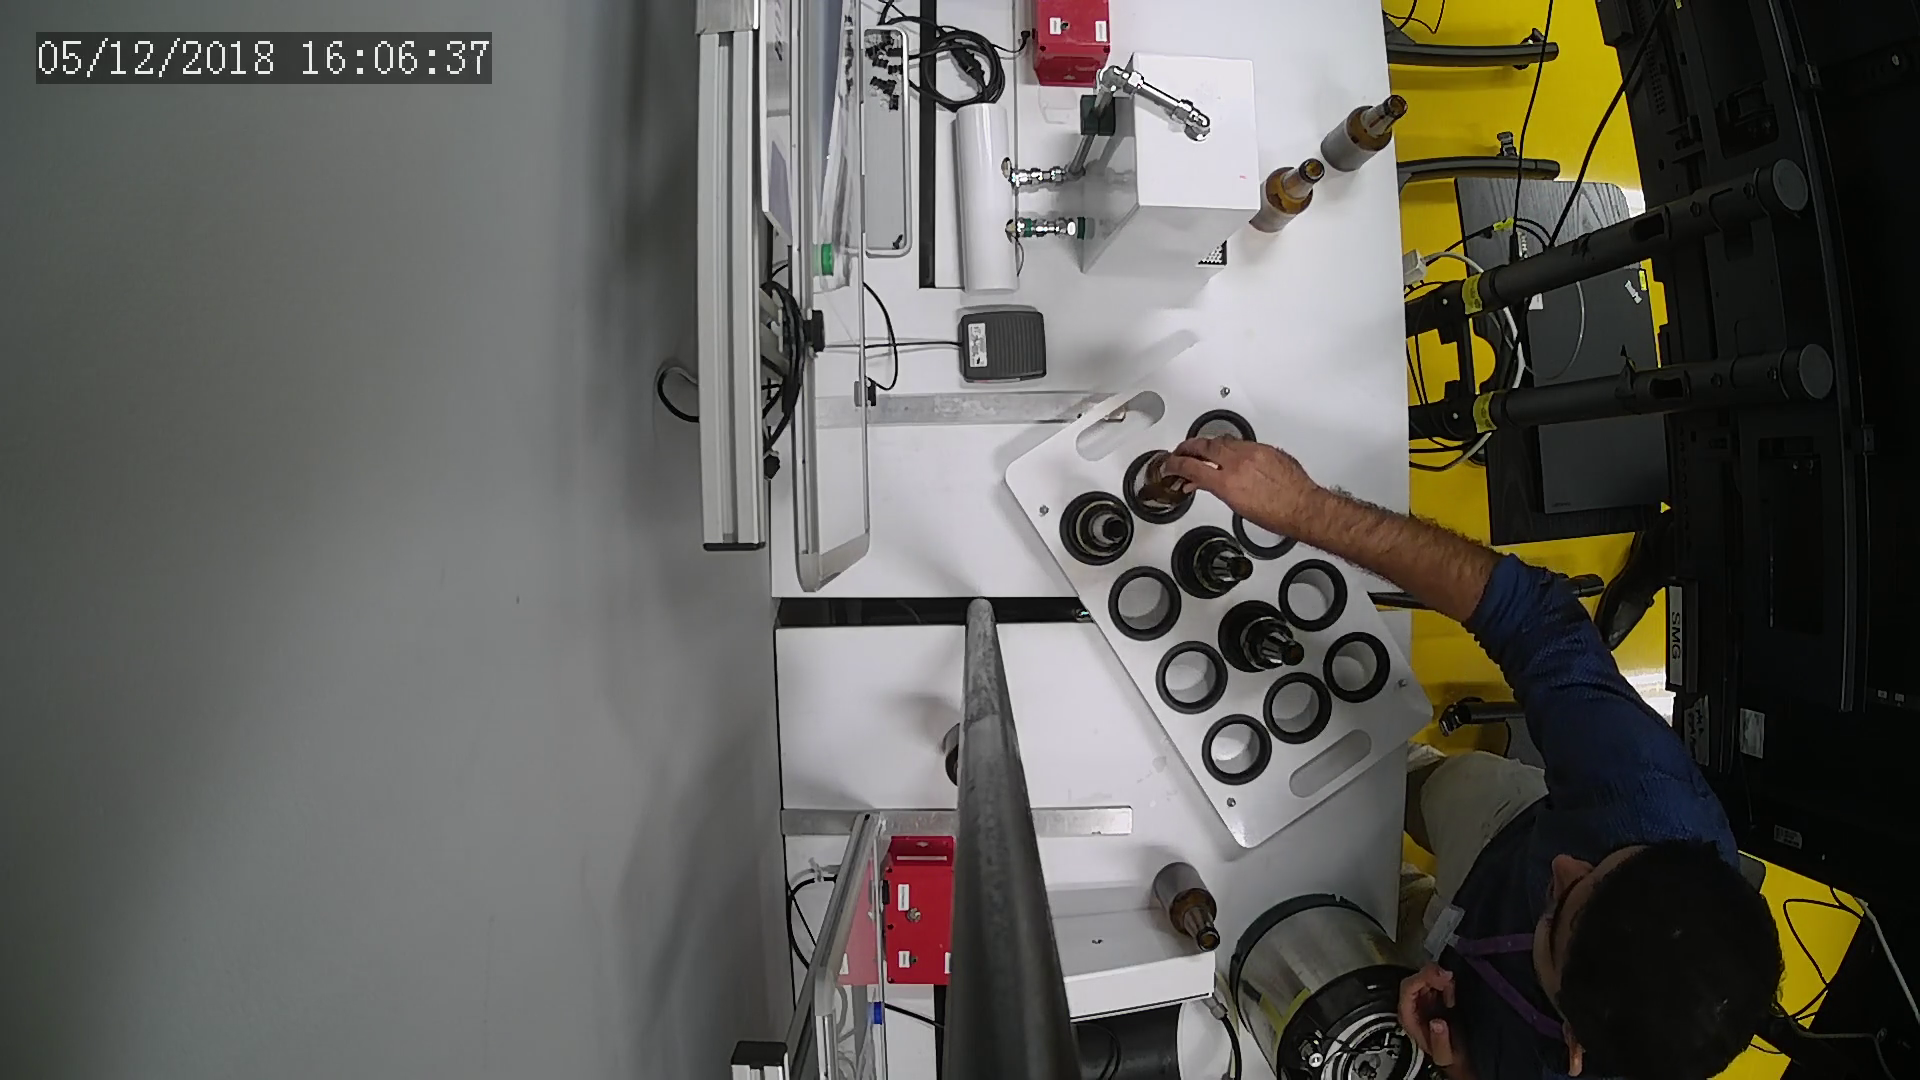filled_bottle: (1220, 603, 1309, 678), (1176, 527, 1258, 599), (1062, 495, 1137, 564)
trolley: (1004, 338, 1439, 853)
unfilled_bottle: (1317, 91, 1408, 174), (1154, 858, 1226, 955), (1249, 156, 1329, 233)
